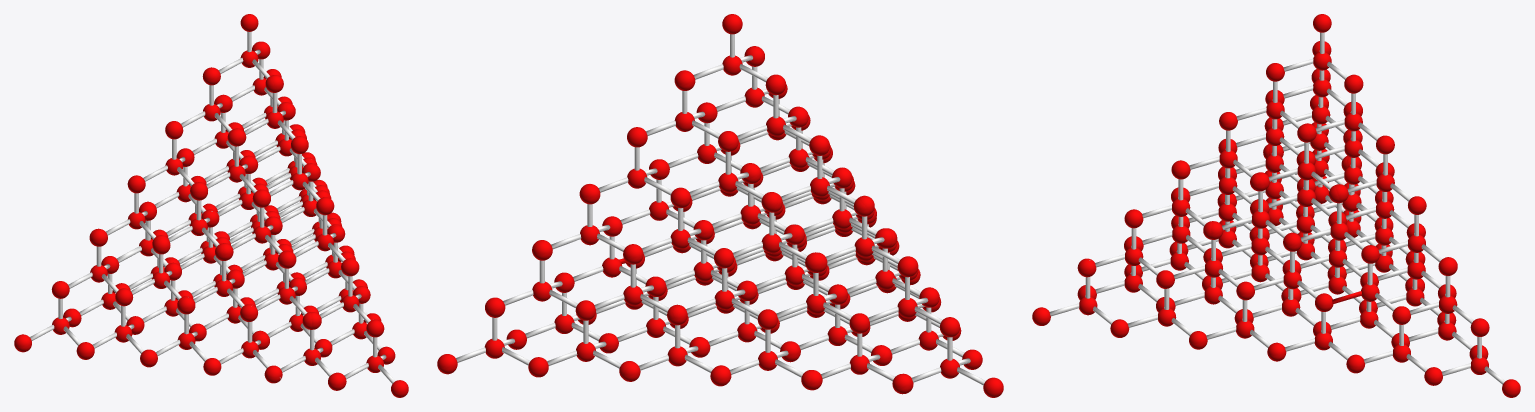
File: asset.gltf
3 views of the same model, side by side, from view 1: azimuth 30°, elevation 25°; view 2: azimuth 150°, elevation 25°; view 3: azimuth 270°, elevation 25° (orthographic). The views are drawn at different scales.
Parts seen in each view (by area): view 1: Cylinder.021; view 2: Cylinder.021; view 3: Cylinder.021.
Part boxes in pixels (x1,y1,x2,y2): Cylinder.021: (14,14,408,397); Cylinder.021: (437,14,1003,397); Cylinder.021: (1032,14,1520,397).
Bounding box in the file's own units: 22.01 × 15.05 × 22.07.
